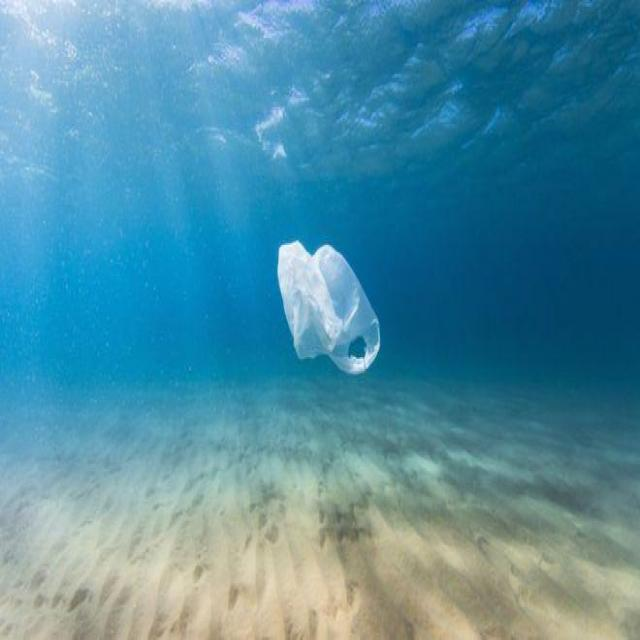plastic_bag: (313, 247, 381, 376), (272, 249, 341, 360)
